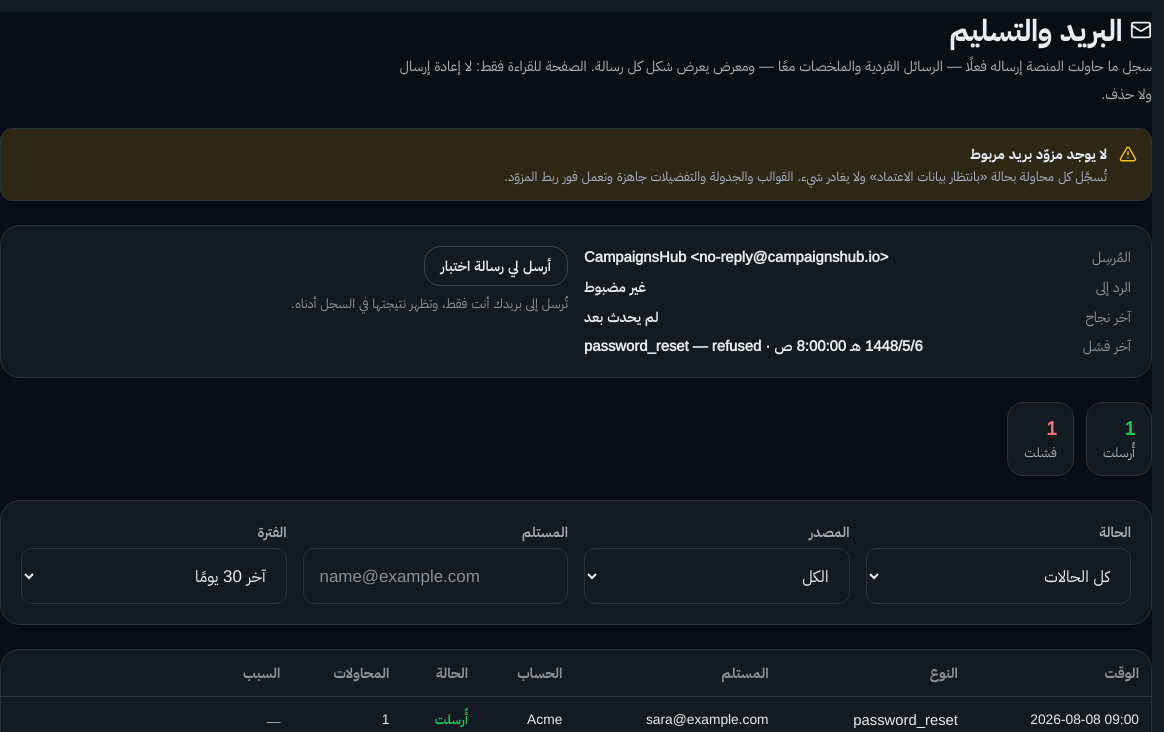
it: the mail settings card › states the sender and the last outcomes, and sends the test to the operator only
The image size is (1164, 732).
Expected: the element with test id "mail-settings" shows "no-reply@campaignshub.io", [584,248,888,265]
Expected: the element with test id "mail-settings" shows "password_reset", [584,337,923,354]
Click the button with test id "mail-test-send". click: click(496, 266)
box: [424,246,568,286]
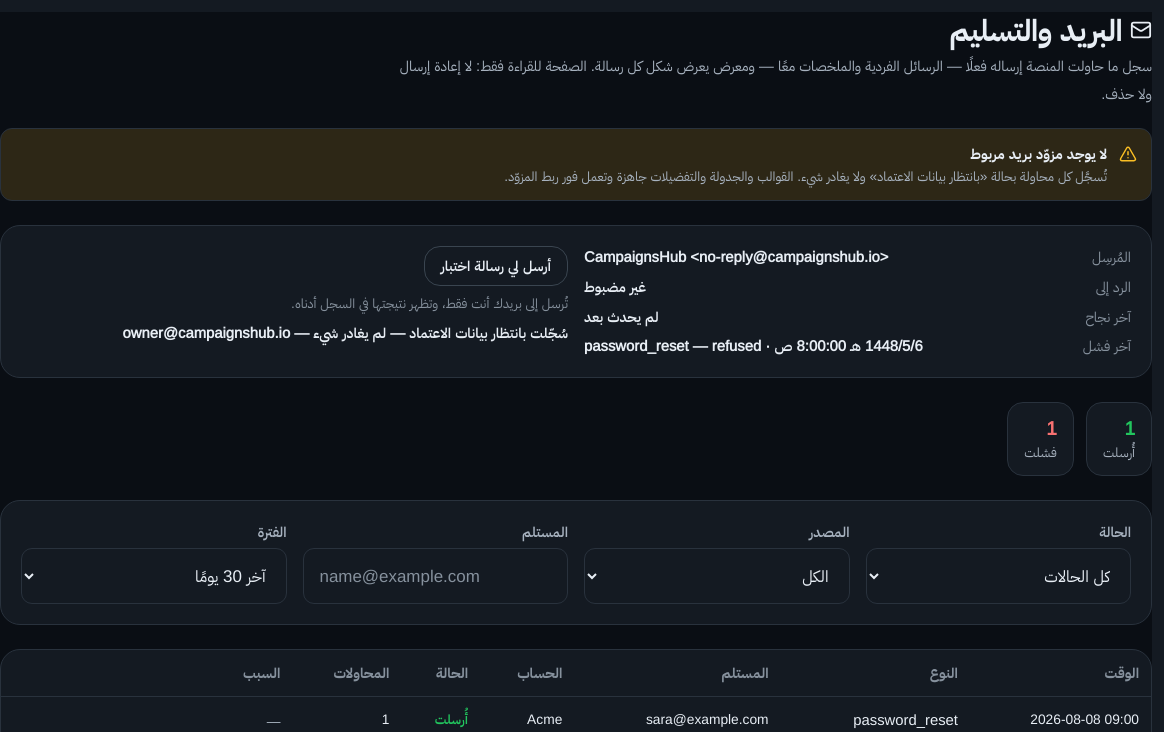
Expected: the element with test id "mail-test-result" shows "owner@campaignshub.io", [123,324,290,341]
Expected: the element with test id "mail-test-result" shows "لم يغادر شيء", [313,324,568,341]
